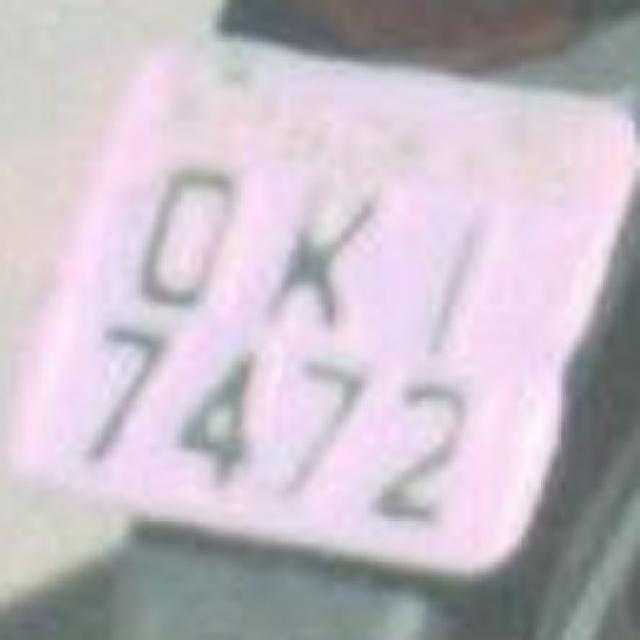2: (344, 355, 484, 540)
4: (144, 316, 276, 496)
7: (45, 295, 180, 480), (244, 344, 384, 516)
B: (409, 204, 496, 364)
K: (252, 152, 396, 340)
O: (120, 128, 252, 320)
